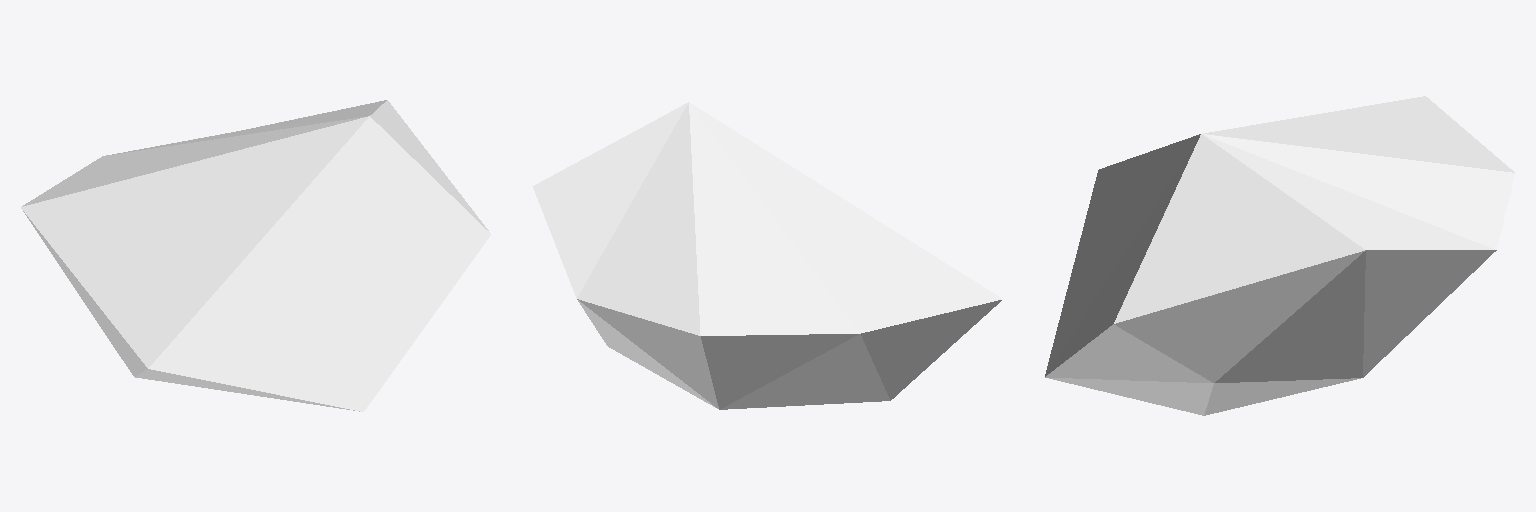
The robot description file, URDF, robot "hyq_lfleg_rom":
<robot name="hyq_lfleg_rom">
  <link name="hyq_lfleg_link">
    <visual>
      <origin xyz="0 0 0" rpy="0 0 0" />
      <geometry>
        <mesh filename="package://hpp-rbprm-corba/meshes/hyq/hyq_lfleg_rom.stl"/>
      </geometry>
      <material name="white">
        <color rgba="1 1 1 1"/>
      </material>
    </visual>
    <collision>
      <origin xyz="0 0 0" rpy="0 0 0" />
      <geometry>
        <mesh filename="package://hpp-rbprm-corba/meshes/hyq/hyq_lfleg_rom.stl"/>
      </geometry>
    </collision>
  </link>
</robot>

--- What the picture shows (computed from the rendered views, not written in the file) ---
The picture shows the robot from 3 angles, left to right: view 1: azimuth 30°, elevation 25°; view 2: azimuth 150°, elevation 25°; view 3: azimuth 270°, elevation 25°; orthographic projection.
Robot: hyq_lfleg_rom — 1 links, 0 joints (none); root link hyq_lfleg_link; default pose: all joints at 0.
Visible links, largest first — view 1: hyq_lfleg_link; view 2: hyq_lfleg_link; view 3: hyq_lfleg_link.
Link boxes in pixels (x1,y1,x2,y2): hyq_lfleg_link: (21, 100, 490, 411); hyq_lfleg_link: (533, 102, 1002, 409); hyq_lfleg_link: (1045, 96, 1514, 415).
Bounding box of the posed robot: 0.9426 × 0.8956 × 0.663 m (x, y, z).
Meshes: 1 distinct files referenced, 1 mesh visuals loaded (1 binary STL).